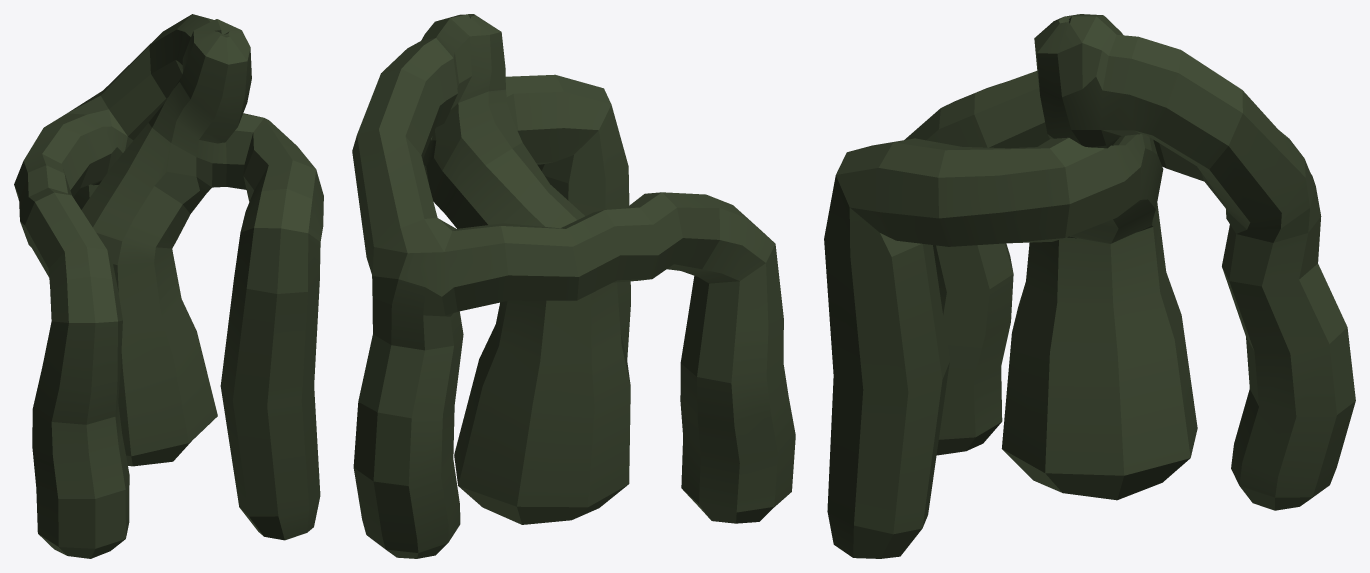
Rendered from EA_Swamp_Root_02c.glb.
3 views of the same model, side by side, from view 1: azimuth 30°, elevation 25°; view 2: azimuth 150°, elevation 25°; view 3: azimuth 270°, elevation 25° (orthographic). The views are drawn at different scales.
Parts seen in each view (by area): view 1: EA_Swamp_Root_02c; view 2: EA_Swamp_Root_02c; view 3: EA_Swamp_Root_02c.
Part boxes in pixels (bbox=[...]): EA_Swamp_Root_02c: bbox=[14, 14, 323, 558]; EA_Swamp_Root_02c: bbox=[352, 14, 795, 558]; EA_Swamp_Root_02c: bbox=[824, 14, 1355, 558].
Size of the model in its own units: 0.8896 by 1.33 by 1.15.
1 material, 1 textured.
